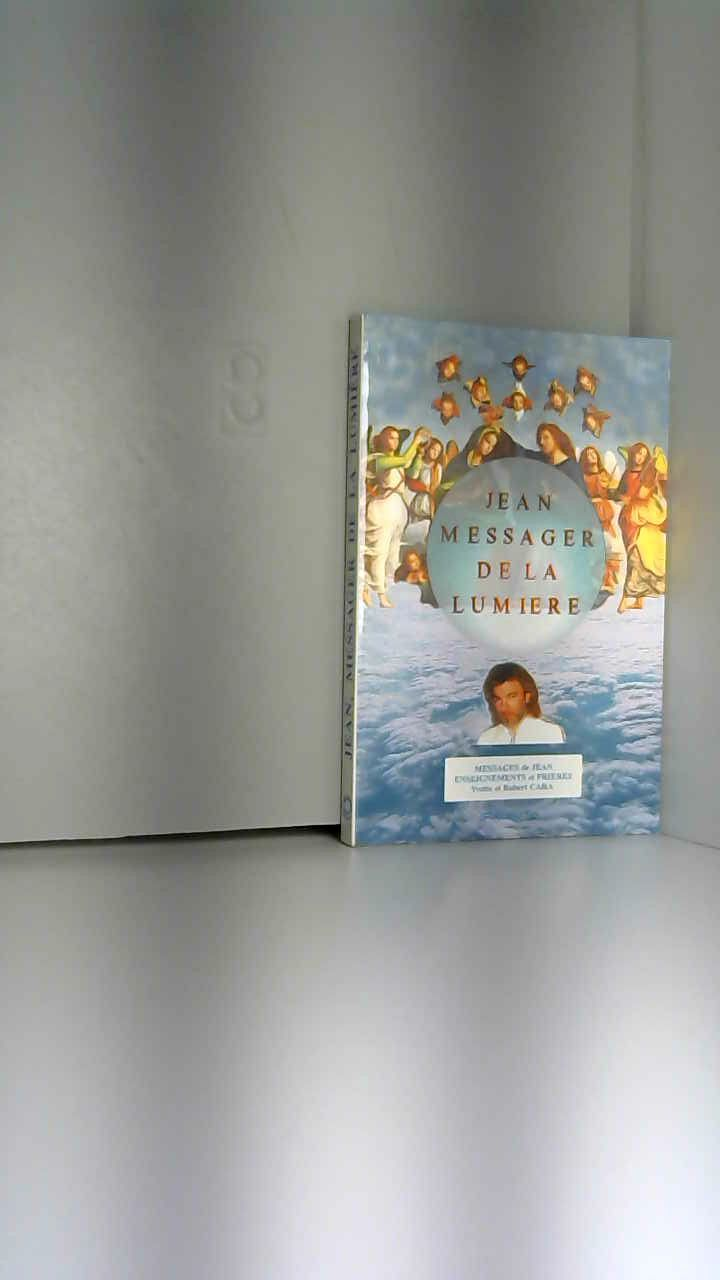book: (310, 290, 716, 871)
